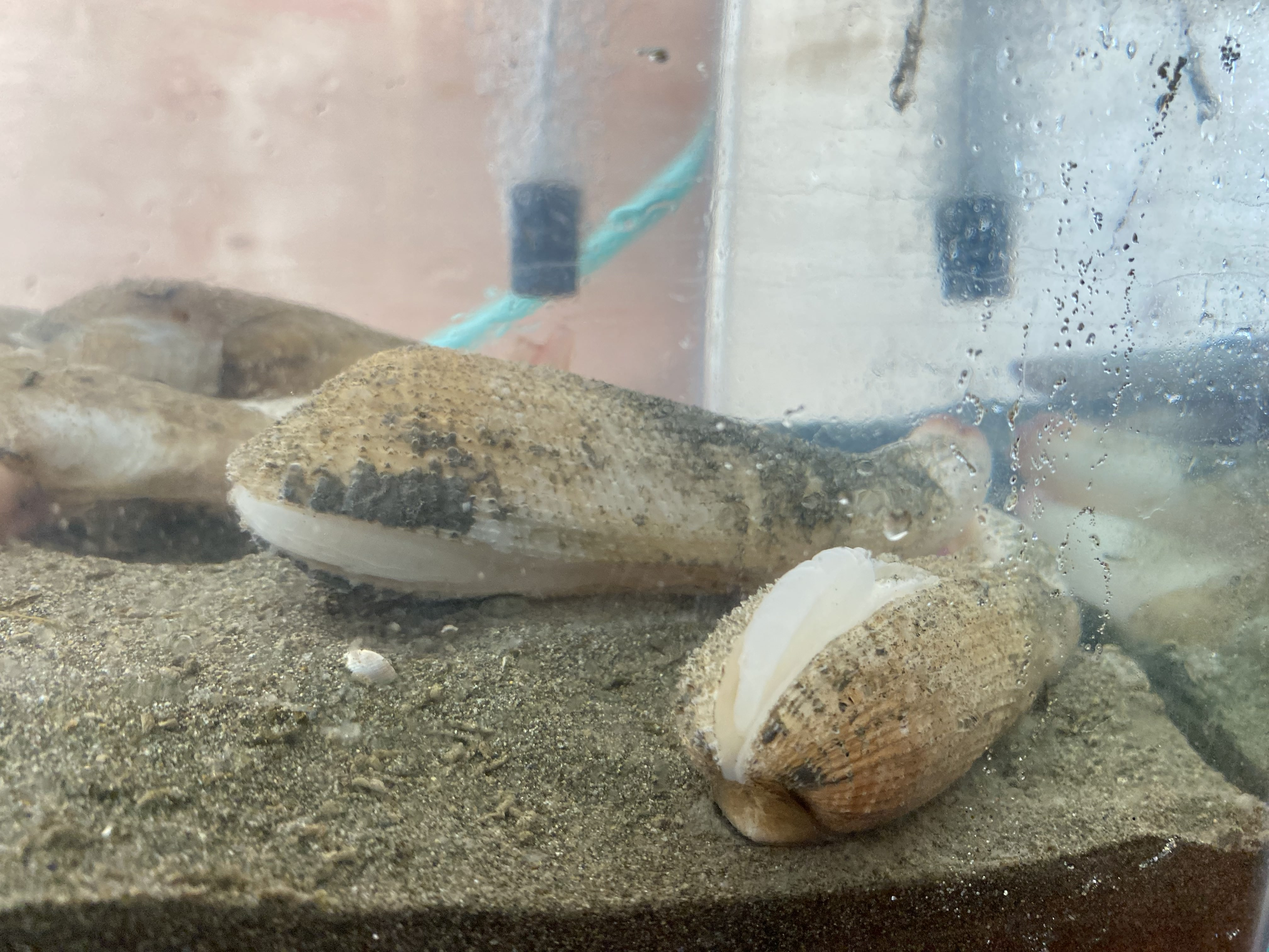Healthy: (228, 346, 991, 597)
